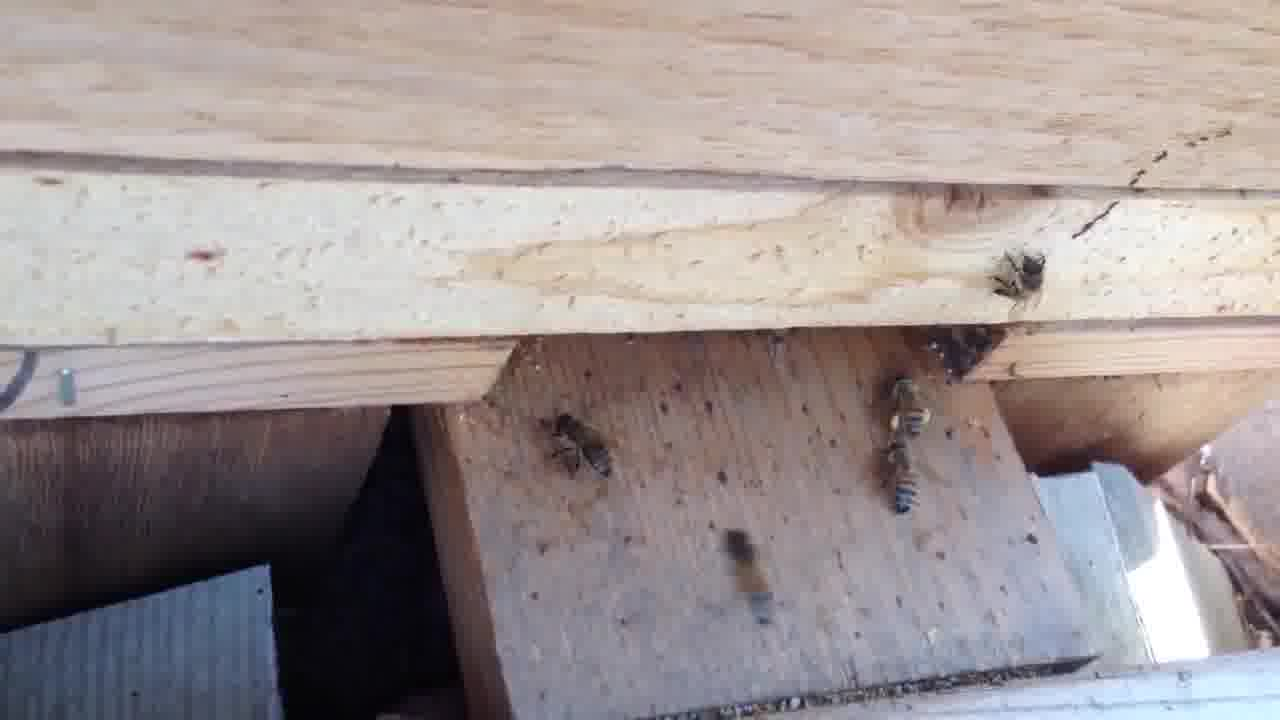pollen: (886, 371, 935, 438)
